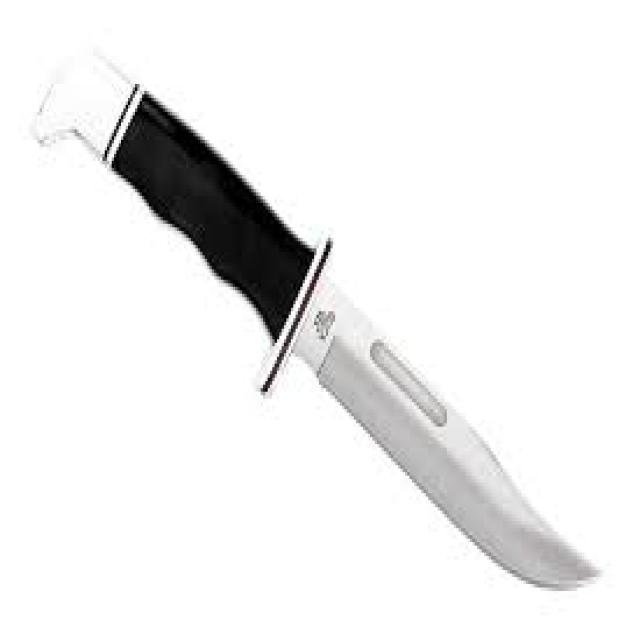knives: (28, 35, 603, 598)
